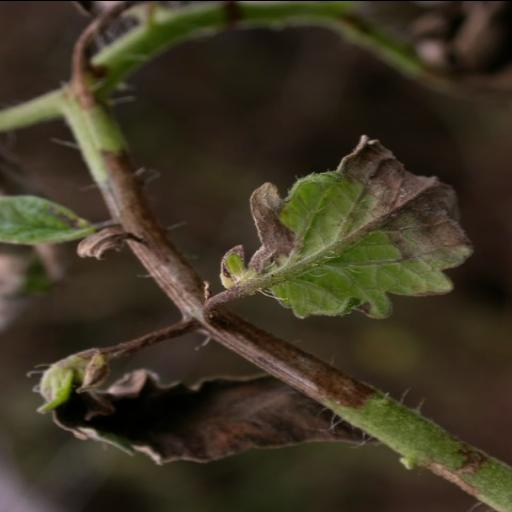disease_tomato: (224, 134, 486, 326)
